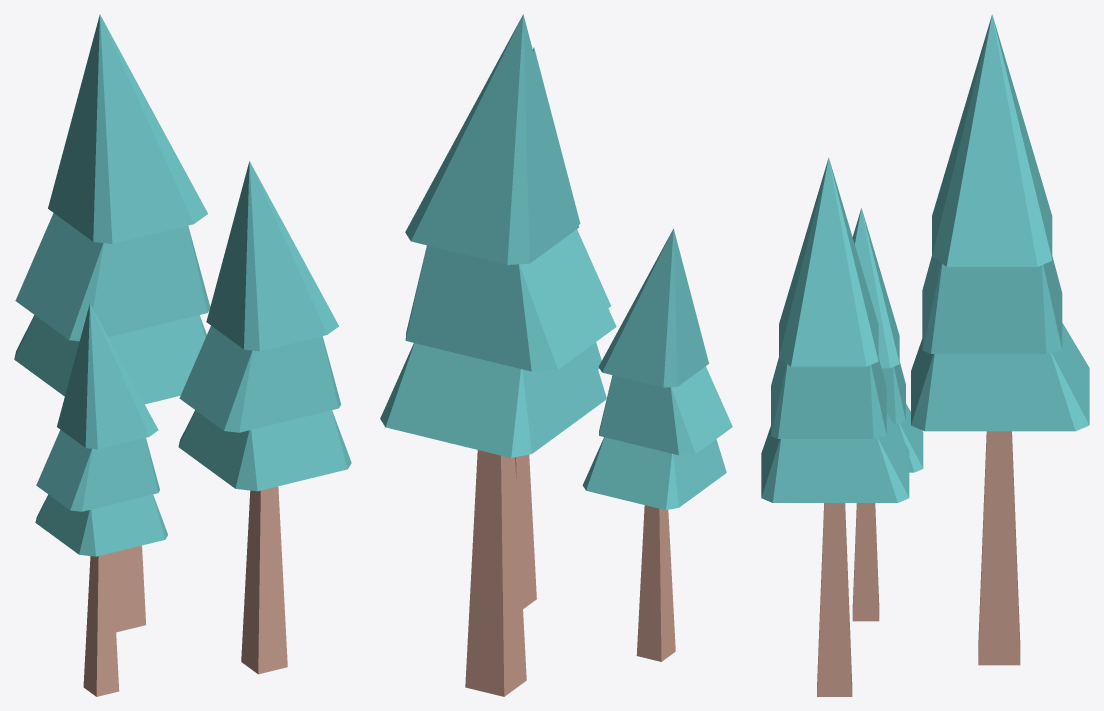
Rendered from pohon.fbx.
The picture shows the model from 3 angles, left to right: view 1: azimuth 30°, elevation 25°; view 2: azimuth 150°, elevation 25°; view 3: azimuth 270°, elevation 25°; orthographic projection. The views are drawn at different scales.
Visible parts, largest first — view 1: tree_pineTallA.001; view 2: tree_pineTallA.001; view 3: tree_pineTallA.001.
Boxes of the visible parts, bbox=[...] form: tree_pineTallA.001: bbox=[14, 14, 351, 696]; tree_pineTallA.001: bbox=[380, 14, 732, 696]; tree_pineTallA.001: bbox=[761, 14, 1089, 696].
Bounding box in the file's own units: 80.17 × 185 × 86.89.
